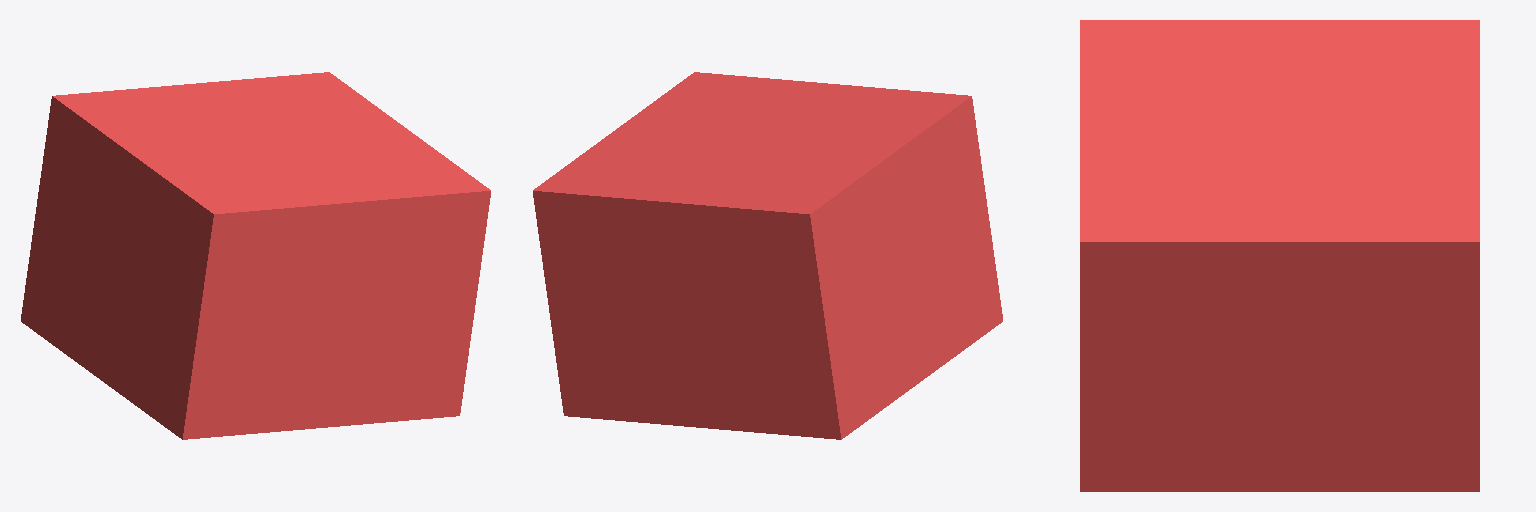
The robot description file, URDF, robot "environment":
<?xml version="1.0"?>
<robot name="environment">
  <material name="White">
    <color rgba="0.9 0.9 0.9 1"/>
  </material>
  <material name="Blue">
    <color rgba="0 0 1 1"/>
  </material>
  <material name="Red">
    <color rgba="1 0.4 0.4 1"/>
  </material>
  <material name="Green">
    <color rgba="0 1 0 1"/>
  </material>
  <material name="Gray">
    <color rgba="0.6 0.6 0.6 1"/>
  </material>
  <material name="Black"><!-- or brown-->
    <color rgba="0.2 0.1 0.1 1"/>
  </material>

  <link name="obstacle_base">
    <inertial>
      <origin xyz="0 0 0" rpy="0 0 0"/>
      <mass value="1.0" />
      <inertia  ixx="1.0" ixy="0.0"  ixz="0.0"  iyy="1.0"  iyz="0.0"  izz="1.0" />
    </inertial>
    <visual>
      <origin xyz="0 0 -0.1" rpy="0 0 0"/>
      <geometry>
        <box size="0.1 0.1 0.1"/>
      </geometry>
      <material name="White"/>
    </visual>
  </link>

  <joint name="j_one" type="fixed">
    <parent link="obstacle_base"/>
    <child link="l_one"/>
    <origin rpy="0 0.15 0" xyz="0 0 0"/>
  </joint>

  <link name="l_one">
    <inertial>
      <origin xyz="0 0 0" /> 
      <mass value="1.0" />
      <inertia  ixx="1.0" ixy="0.0"  ixz="0.0"  iyy="1.0"  iyz="0.0"  izz="1.0" />
    </inertial>
    <visual>
      <origin xyz="0 0 0"/>
      <geometry>
        <box size="8 8 6" /> 
      </geometry>
      <material name="Red"/>
    </visual>
    <collision>
      <origin xyz="0 0 0"/>
      <geometry>
        <box size="8 8 6" />
      </geometry>
    </collision>
  </link>
</robot>

--- What the picture shows (computed from the rendered views, not written in the file) ---
3 views of the same robot in one strip: view 1: azimuth 30°, elevation 25°; view 2: azimuth 150°, elevation 25°; view 3: azimuth 270°, elevation 25° (orthographic).
Robot: environment — 2 links, 1 joints (1 fixed); root link obstacle_base; default pose: all joints at 0.
Visible links, largest first — view 1: l_one; view 2: l_one; view 3: l_one.
Boxes of the visible links, x1,y1,x2,y2 form: l_one: (21, 72, 490, 439); l_one: (533, 72, 1002, 439); l_one: (1080, 20, 1479, 491).
Size in the robot's own frame: 8.81 by 8 by 7.13 metres.
Geometry: primitives only (box / cylinder / sphere), no mesh files.